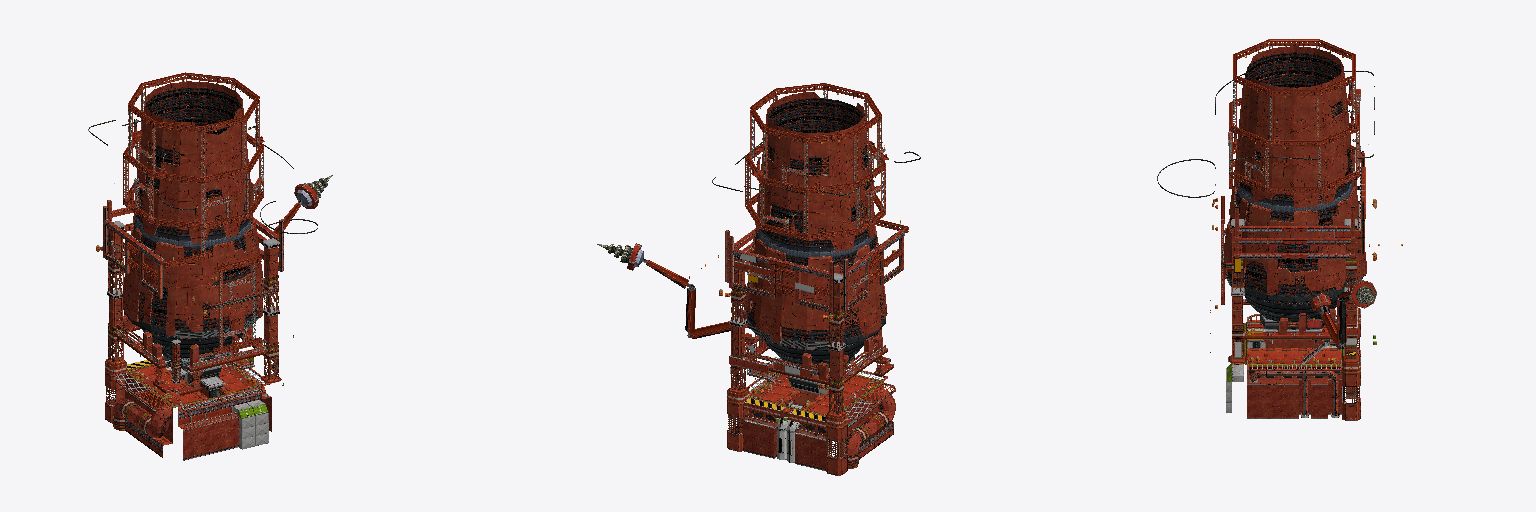
The picture shows the model from 3 angles: view 1: azimuth 30°, elevation 25°; view 2: azimuth 150°, elevation 25°; view 3: azimuth 270°, elevation 25°; orthographic projection.
Parts seen in each view (by area): view 1: polygon206, polygon281, polygon201, polygon122, polygon161, polygon202, polygon130, polygon158, polygon162, polygon116, polygon240, polygon121 (+9 smaller); view 2: polygon206, polygon201, polygon281, polygon192, polygon161, polygon202, polygon130, polygon240, polygon158, polygon259, polygon162, polygon20 (+10 smaller); view 3: polygon206, polygon201, polygon281, polygon192, polygon161, polygon202, polygon76, polygon187, polygon162, polygon259, polygon200, polygon160 (+7 smaller).
Part boxes in pixels (x1,y1,x2,y2): polygon206: (133,81,252,242); polygon281: (122,218,262,336); polygon201: (133,88,262,331); polygon122: (125,374,238,460); polygon161: (124,72,263,228); polygon202: (124,311,258,357); polygon130: (113,398,171,437); polygon158: (123,79,263,253); polygon162: (123,75,263,228); polygon116: (233,400,268,449); polygon240: (105,229,124,423); polygon121: (125,390,259,457); polygon206: (756,92,874,251); polygon201: (747,98,883,342); polygon281: (745,226,886,343); polygon192: (743,421,825,470); polygon161: (746,83,885,239); polygon202: (747,318,885,367); polygon130: (847,388,895,468); polygon240: (826,281,847,475); polygon158: (745,90,885,235); polygon259: (727,258,748,451); polygon162: (745,85,885,239); polygon20: (646,260,730,338); polygon206: (1234,46,1350,207); polygon201: (1228,52,1355,296); polygon281: (1222,185,1366,294); polygon192: (1247,379,1353,418); polygon161: (1229,39,1359,191); polygon202: (1227,275,1363,321); polygon76: (1239,228,1350,258); polygon187: (1232,315,1341,415); polygon162: (1229,42,1359,191); polygon259: (1342,228,1360,420); polygon200: (1237,181,1353,212); polygon160: (1229,41,1359,192).
Size of the model in its own units: 1545 by 1936 by 1315.
Materials: 90 (50 with a texture image).